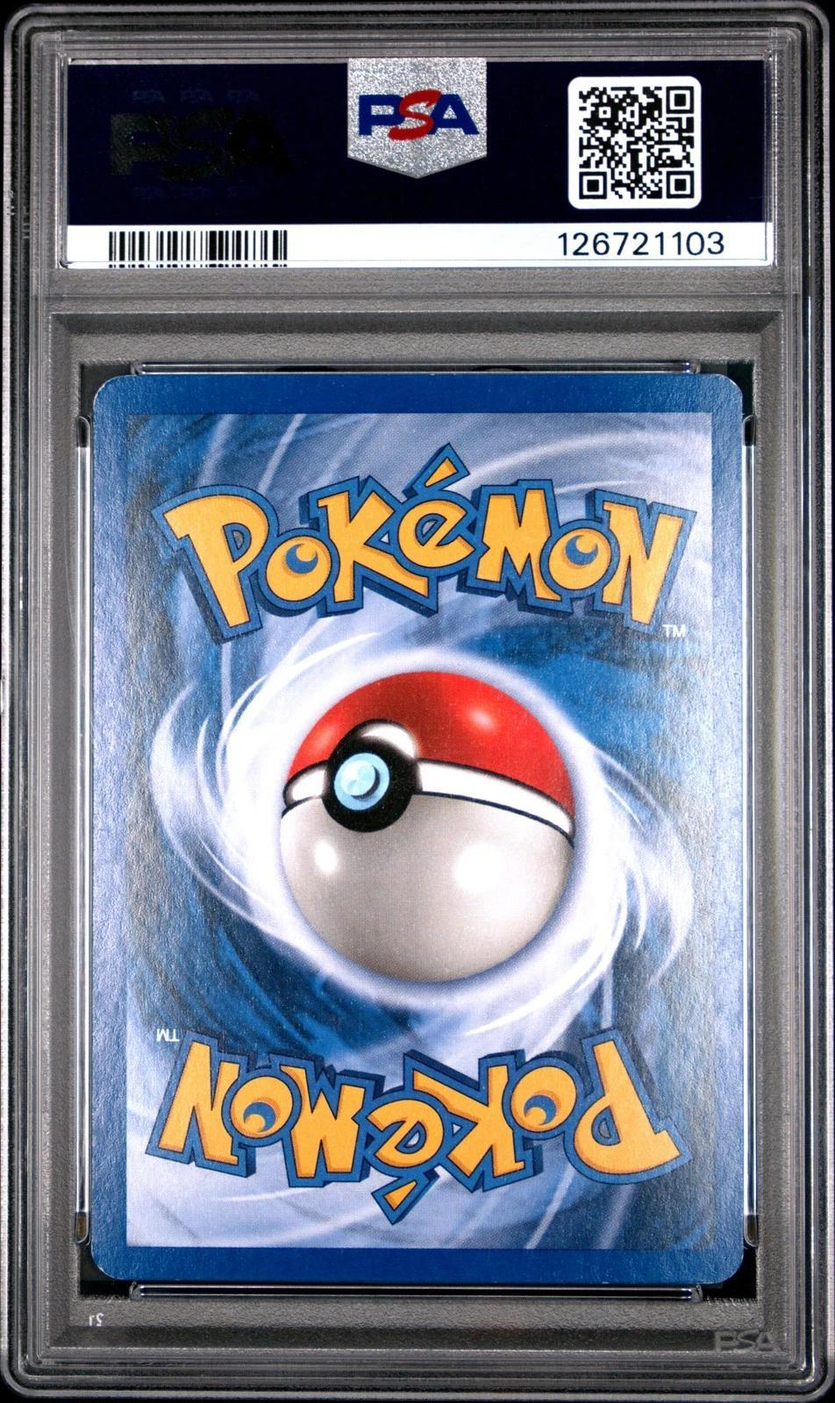card-2UtV: (90, 372, 745, 1286)
